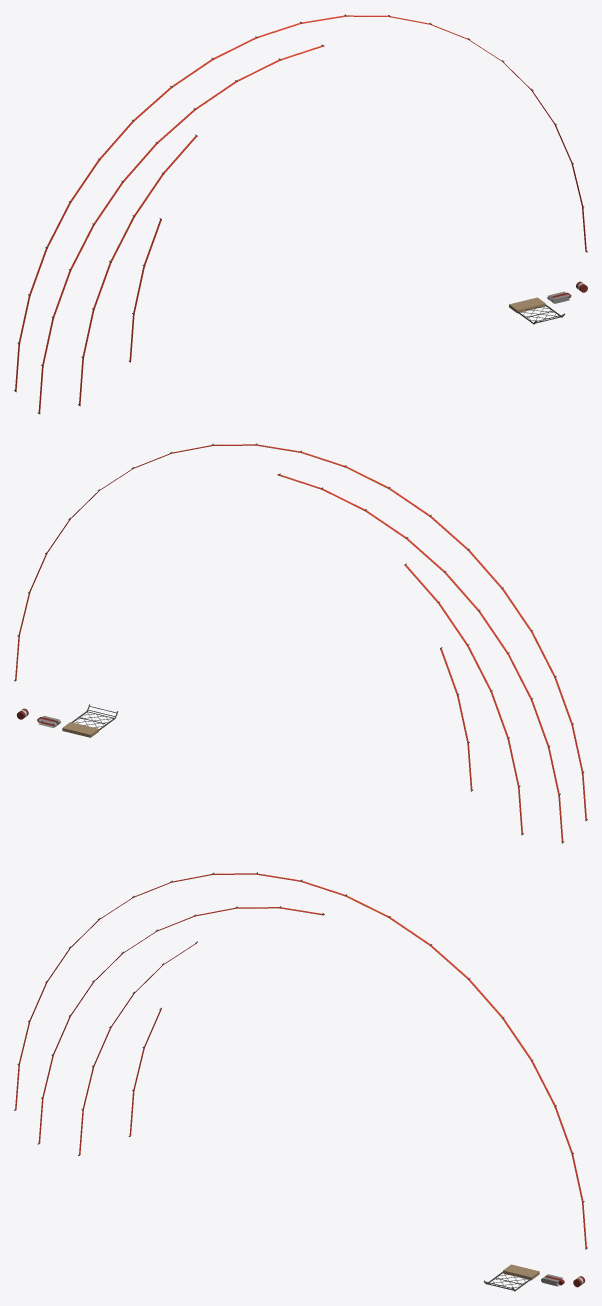
Rendered from fences.glb.
3 views of the same model, one above another, from view 1: azimuth 30°, elevation 25°; view 2: azimuth 150°, elevation 25°; view 3: azimuth 330°, elevation 25° (orthographic).
Parts seen in each view (by area): view 1: fencing_03, fencing_03_A, fencing_03_C, fencing_04; view 2: fencing_03, fencing_03_A, fencing_04, fencing_03_C; view 3: fencing_03, fencing_03_A, fencing_04.
Boxes of the visible parts, x1=… form: fencing_03: x1=14, y1=14, x2=587, y2=392; fencing_03_A: x1=37, y1=44, x2=324, y2=414; fencing_03_C: x1=78, y1=134, x2=197, y2=406; fencing_04: x1=509, y1=297, x2=564, y2=324; fencing_03: x1=14, y1=443, x2=587, y2=821; fencing_03_A: x1=277, y1=473, x2=564, y2=843; fencing_04: x1=62, y1=704, x2=118, y2=737; fencing_03_C: x1=404, y1=563, x2=523, y2=835; fencing_03: x1=14, y1=872, x2=587, y2=1249; fencing_03_A: x1=37, y1=906, x2=324, y2=1144; fencing_04: x1=483, y1=1264, x2=539, y2=1291.
Bounding box in the file's own units: 40.12 × 22.62 × 3.36.
Materials: 1 (1 with a texture image).
